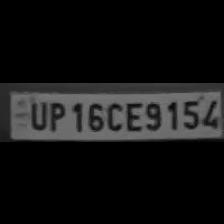1: (66, 97, 86, 130), (163, 96, 179, 130)
4: (200, 96, 220, 128)
5: (179, 96, 199, 128)
6: (84, 97, 104, 130)
9: (142, 98, 162, 130)
C: (103, 98, 123, 130)
E: (122, 97, 142, 130)
P: (46, 97, 68, 130)
U: (26, 97, 48, 128)
